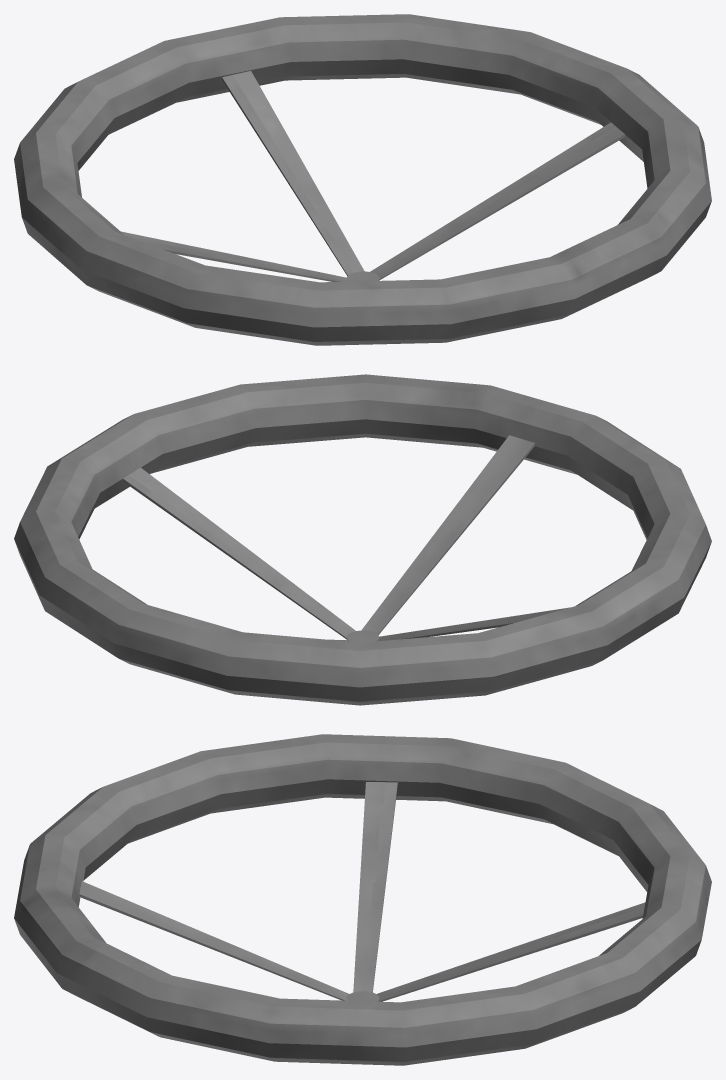
Rendered from Tubo E1.fbx.
3 renders of one model, top to bottom at view 1: azimuth 30°, elevation 25°; view 2: azimuth 150°, elevation 25°; view 3: azimuth 270°, elevation 25°, orthographic.
Parts seen in each view (by area): view 1: Pênis_Especial_Safe1_Válvula_pTorus1; view 2: Pênis_Especial_Safe1_Válvula_pTorus1; view 3: Pênis_Especial_Safe1_Válvula_pTorus1.
Part boxes in pixels (x1,y1,x2,y2): Pênis_Especial_Safe1_Válvula_pTorus1: (14,14,711,345); Pênis_Especial_Safe1_Válvula_pTorus1: (14,374,711,705); Pênis_Especial_Safe1_Válvula_pTorus1: (14,734,711,1065).
Bounding box in the file's own units: 4.37 × 0.8776 × 4.37.
